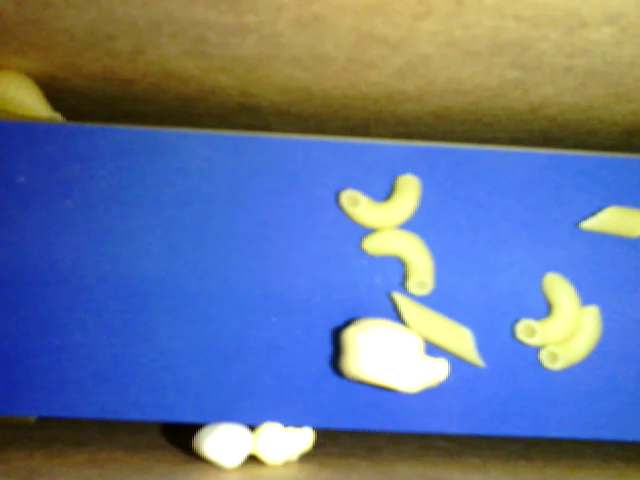elbow: (362, 227, 436, 297), (515, 268, 581, 344), (338, 174, 425, 231), (539, 299, 605, 372)
penne: (391, 291, 486, 365), (575, 205, 638, 236)
shell: (4, 69, 66, 125)
tortellini: (340, 319, 452, 396)
